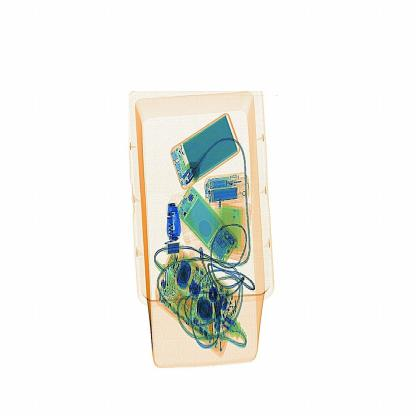scissors: (164, 197, 190, 249)
